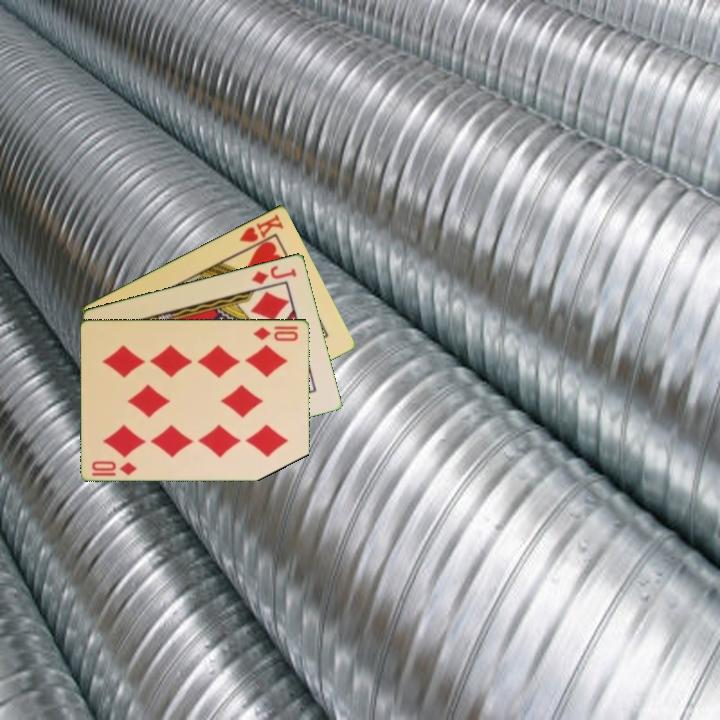10d: (250, 323, 301, 344), (89, 457, 140, 478)
Jd: (248, 262, 299, 287)
Kh: (236, 210, 287, 253)
